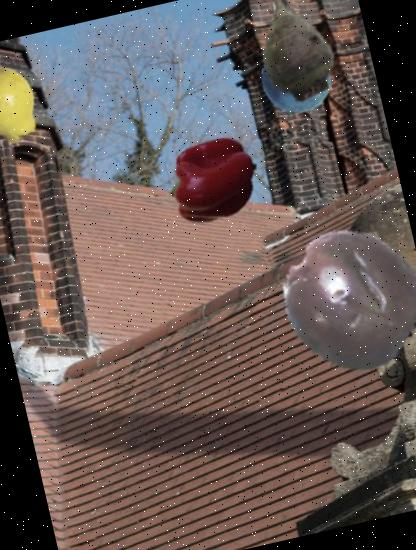Beetroot: (226, 0, 358, 113)
Huckleberry: (253, 37, 338, 122)
Passion: (264, 212, 416, 386)
Pepper: (160, 126, 266, 234)
Quince: (0, 54, 53, 152)
